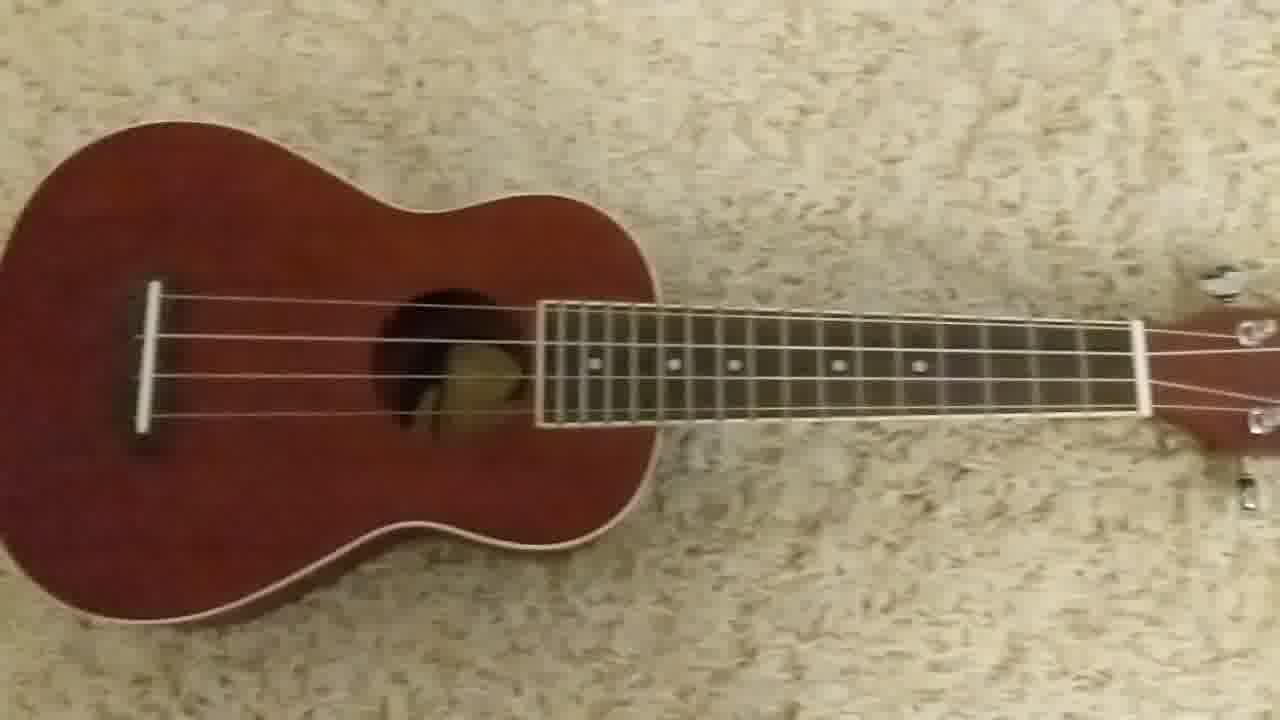Body: (1, 117, 671, 628)
Bridge: (120, 269, 181, 448)
Headstock: (1144, 253, 1280, 513)
